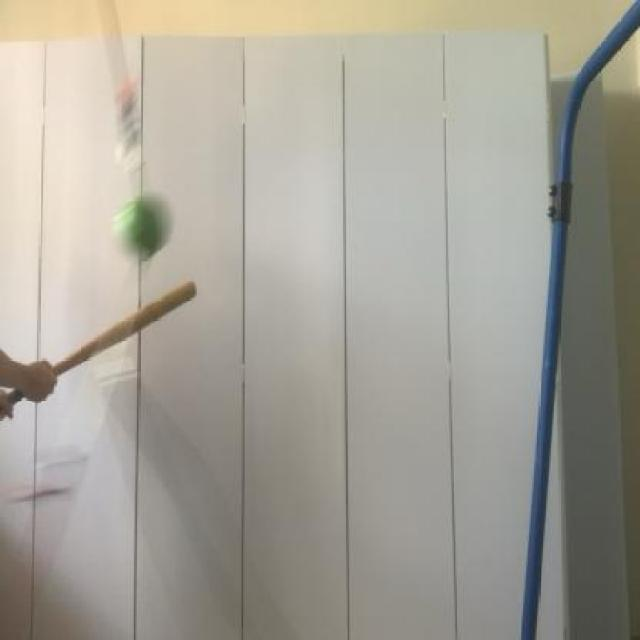baseball: (103, 181, 182, 274)
